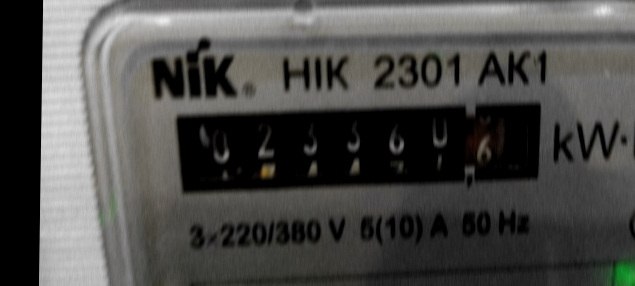0: (208, 123, 234, 165), (429, 111, 452, 148)
2: (252, 117, 279, 158)
3: (299, 116, 321, 156), (342, 115, 364, 153)
6: (384, 115, 410, 157), (475, 131, 497, 167)
screen: (154, 83, 557, 207)
